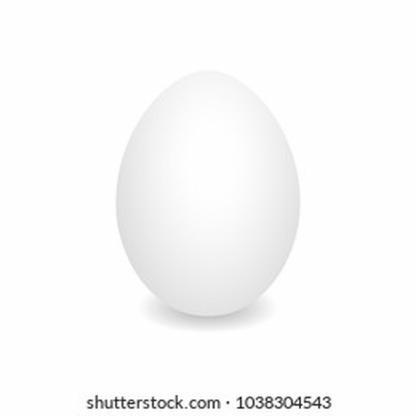egg: (112, 65, 306, 320)
